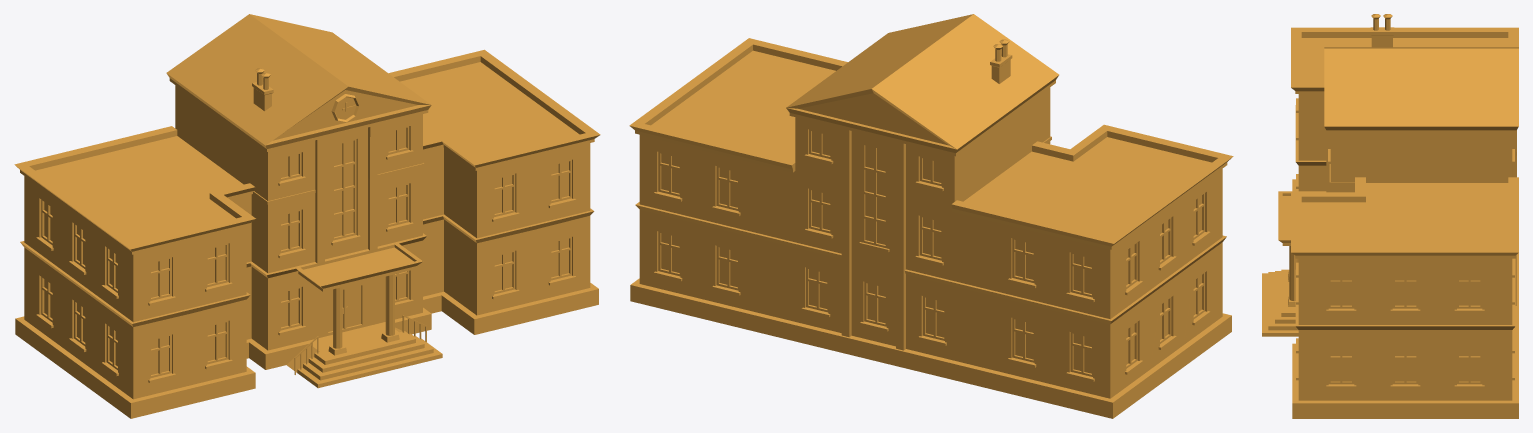
Rendered from building-school.fbx.
3 views of the same model, side by side, from view 1: azimuth 30°, elevation 25°; view 2: azimuth 150°, elevation 25°; view 3: azimuth 270°, elevation 25° (orthographic). The views are drawn at different scales.
Parts seen in each view (by area): view 1: building-school; view 2: building-school; view 3: building-school.
Part boxes in pixels (x1,y1,x2,y2): building-school: (14, 14, 600, 418); building-school: (629, 14, 1233, 418); building-school: (1262, 14, 1518, 418).
Bounding box in the file's own units: 24.9 × 13.72 × 12.01.
